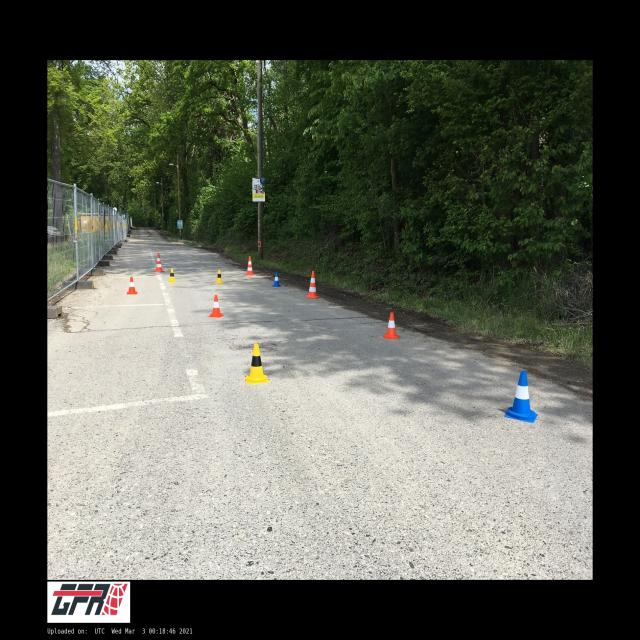blue_cone: (504, 371, 538, 423), (272, 272, 281, 286)
large_orange_cone: (306, 270, 319, 298), (154, 253, 164, 272), (245, 256, 254, 276)
orange_cone: (383, 312, 399, 339), (209, 294, 224, 318), (126, 277, 138, 294)
yellow_cone: (244, 344, 269, 384), (215, 270, 223, 283), (168, 269, 176, 282)
